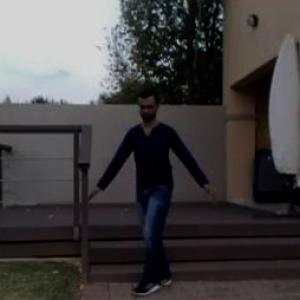land: (100, 97, 227, 299)
